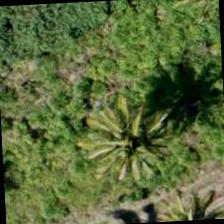Kelapa_Sawit: (77, 89, 172, 184)
